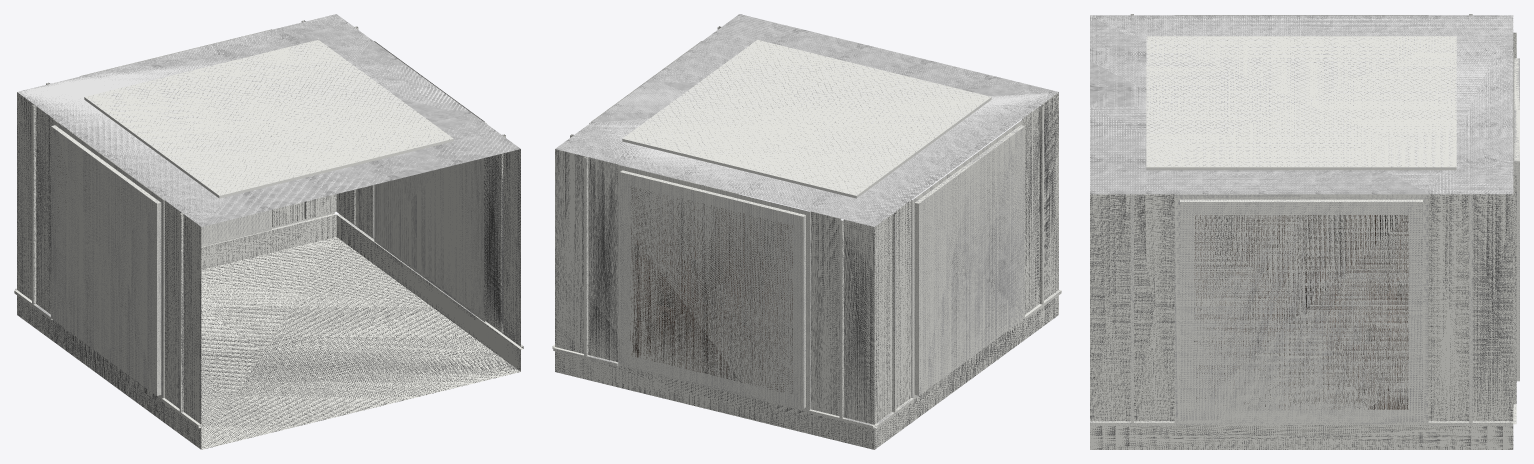
3 views of the same model, side by side, from view 1: azimuth 30°, elevation 25°; view 2: azimuth 150°, elevation 25°; view 3: azimuth 270°, elevation 25° (orthographic). The views are drawn at different scales.
Parts seen in each view (by area): view 1: instance_4, instance_1.001, instance_1.002, instance_3.002, instance_2.001, instance_2.008, instance_3.005, instance_3.008, instance_3.006, instance_2, instance_2.005, instance_3 (+10 smaller); view 2: instance_0.002, instance_1.001, instance_1.002, instance_3.002, instance_0.007, instance_0.008, instance_0.005, instance_0.006, instance_0, instance_0.004, instance_0.001, instance_3.004 (+8 smaller); view 3: instance_2.002, instance_1.001, instance_1.002, instance_2.007, instance_2.008, instance_2.004, instance_2, instance_2.005, instance_2.006, instance_2.001, instance_0.003, instance_1 (+3 smaller).
Boxes of the visible parts, <box> form: instance_4: <box>199,237,520,449</box>; instance_1.001: <box>85,39,453,195</box>; instance_1.002: <box>17,14,520,226</box>; instance_3.002: <box>51,126,156,395</box>; instance_2.001: <box>337,26,523,349</box>; instance_2.008: <box>336,215,520,371</box>; instance_3.005: <box>181,214,201,424</box>; instance_3.008: <box>17,295,201,449</box>; instance_3.006: <box>33,106,53,314</box>; instance_2: <box>484,134,504,332</box>; instance_2.005: <box>503,135,520,346</box>; instance_3: <box>164,200,182,408</box>; instance_0.002: <box>620,172,803,408</box>; instance_1.001: <box>622,39,990,195</box>; instance_1.002: <box>555,14,1058,226</box>; instance_3.002: <box>919,126,1024,395</box>; instance_0.007: <box>630,186,792,394</box>; instance_0.008: <box>555,351,874,449</box>; instance_0.005: <box>842,219,874,424</box>; instance_0.006: <box>586,157,618,362</box>; instance_0: <box>810,211,841,416</box>; instance_0.004: <box>555,149,585,353</box>; instance_0.001: <box>553,157,873,428</box>; instance_3.004: <box>874,214,894,424</box>; instance_2.002: <box>1180,202,1422,422</box>; instance_1.001: <box>1146,36,1456,167</box>; instance_1.002: <box>1090,15,1513,194</box>; instance_2.007: <box>1194,215,1408,409</box>; instance_2.008: <box>1090,425,1513,449</box>; instance_2.004: <box>1472,194,1513,421</box>; instance_2: <box>1134,194,1174,421</box>; instance_2.005: <box>1090,194,1130,421</box>; instance_2.006: <box>1428,194,1468,421</box>; instance_2.001: <box>1090,194,1513,425</box>; instance_0.003: <box>1514,58,1519,381</box>; instance_1: <box>1146,167,1456,170</box>.
Bounding box in the file's own units: 4.72 × 3.08 × 4.65.
9 materials, 4 textured.
